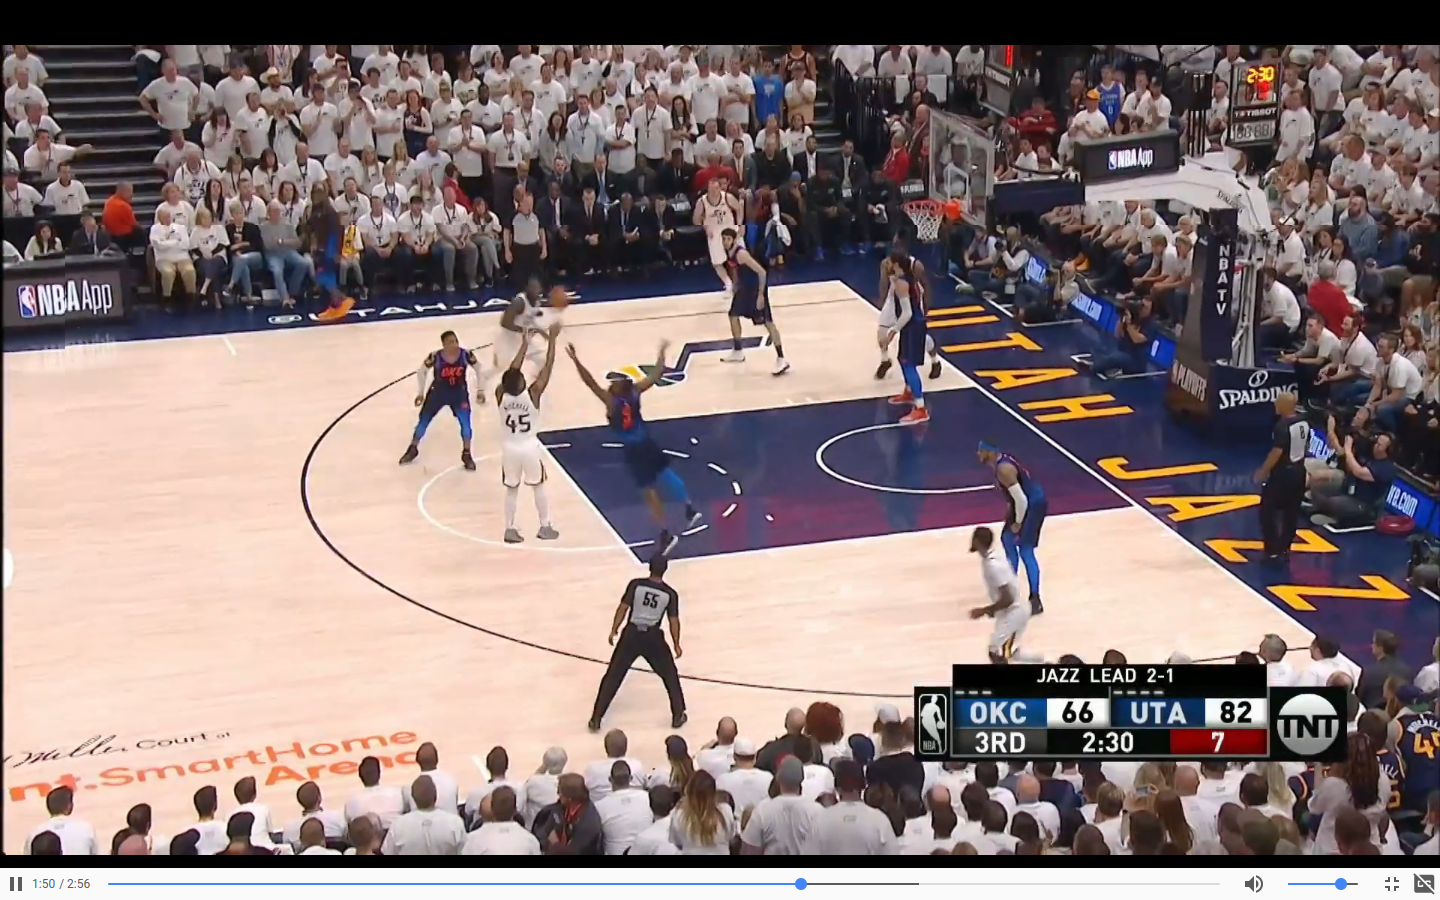basketball: (550, 280, 575, 312)
basketball player: (565, 340, 701, 539), (712, 226, 798, 388), (502, 331, 562, 548), (979, 440, 1052, 612), (401, 332, 484, 472), (958, 525, 1035, 665), (885, 251, 930, 416), (684, 171, 745, 286), (502, 279, 547, 354)
referee: (590, 551, 692, 732), (1250, 394, 1321, 580), (496, 189, 550, 305)
